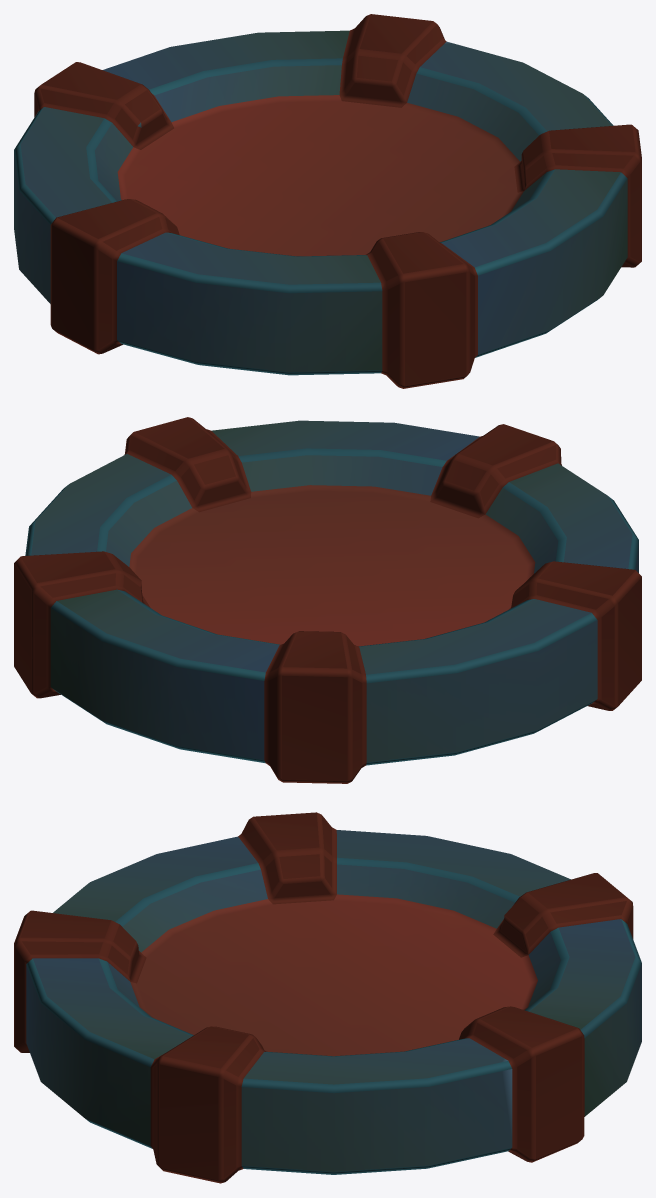
File: SM_Chip.fbx
3 views of the same model, one above another, from view 1: azimuth 30°, elevation 25°; view 2: azimuth 150°, elevation 25°; view 3: azimuth 270°, elevation 25° (orthographic).
Parts seen in each view (by area): view 1: SM_Chip; view 2: SM_Chip; view 3: SM_Chip.
Part boxes in pixels (bbox=[...]): SM_Chip: bbox=[14, 14, 641, 388]; SM_Chip: bbox=[14, 417, 641, 783]; SM_Chip: bbox=[14, 812, 641, 1183].
Size of the model in its own units: 14.91 by 3.03 by 14.91.
1 material, 1 textured.
